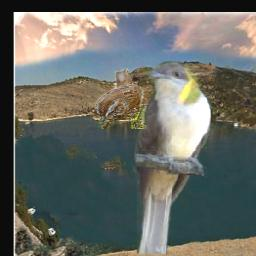Cuckoo: (131, 62, 211, 255)
Sparrow: (94, 69, 147, 130)
